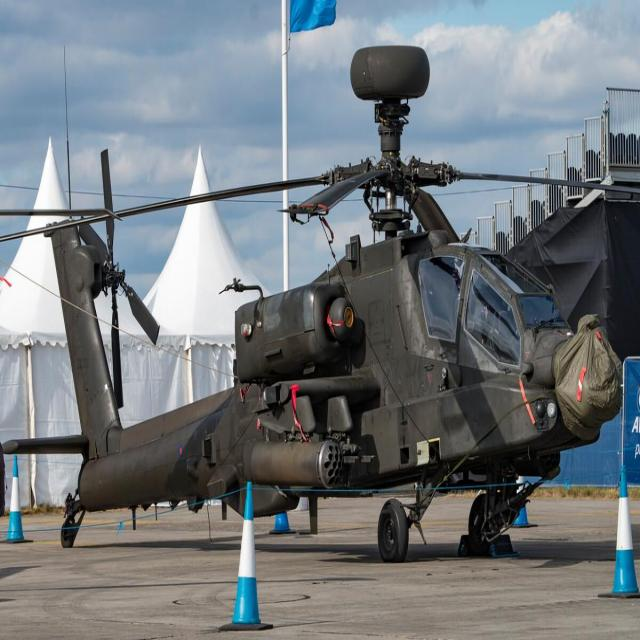MIL_HELO: (0, 41, 612, 552)
